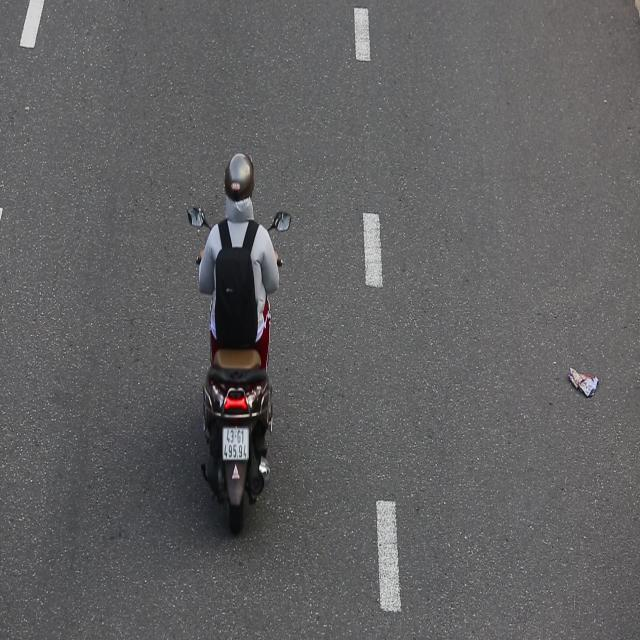motorbike: (181, 148, 297, 542)
